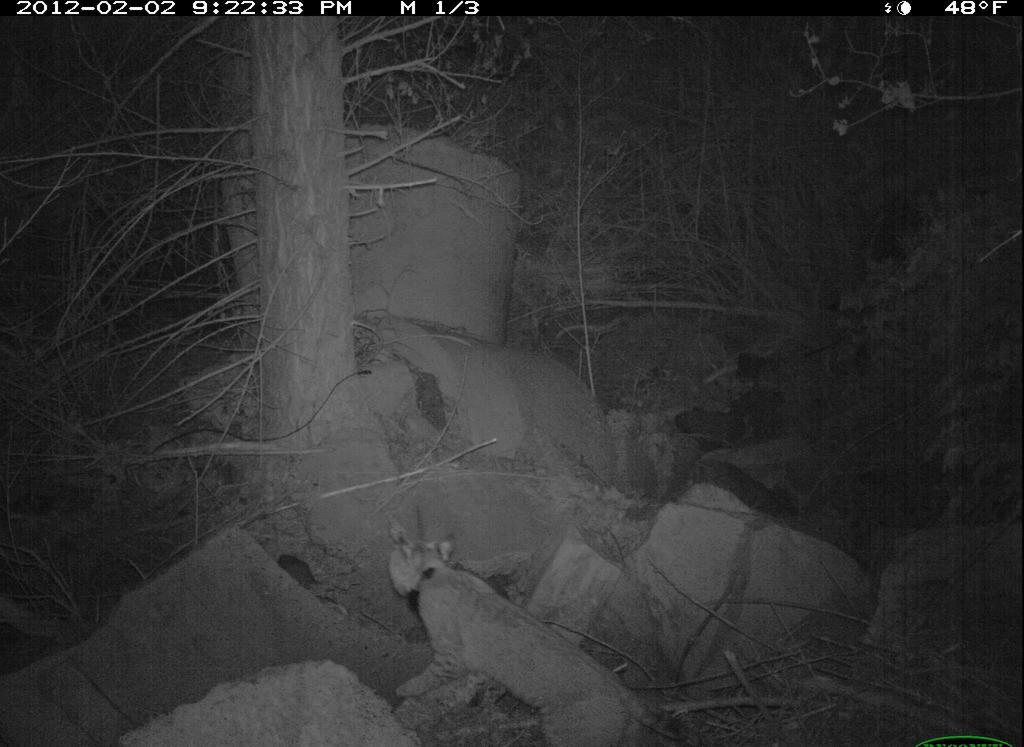bobcat: (372, 514, 685, 743)
